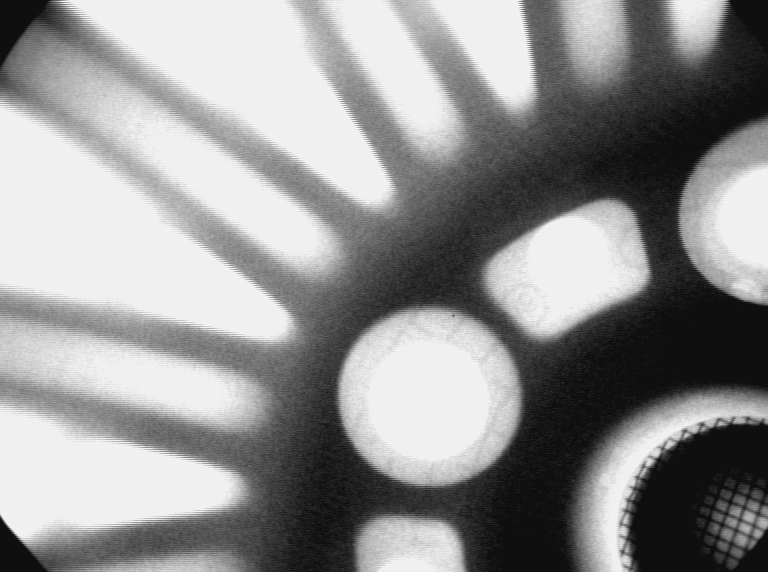defect: (729, 275, 766, 308)
